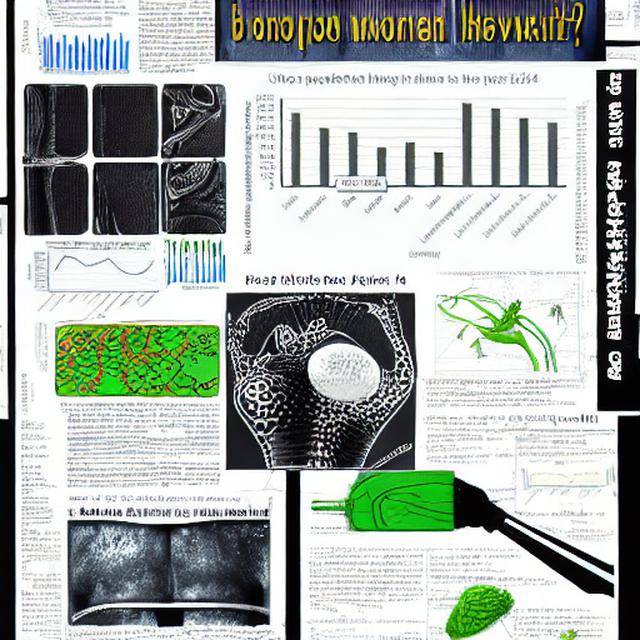Graph: (239, 67, 571, 266), (23, 237, 161, 319), (32, 23, 134, 82), (517, 457, 606, 508)
